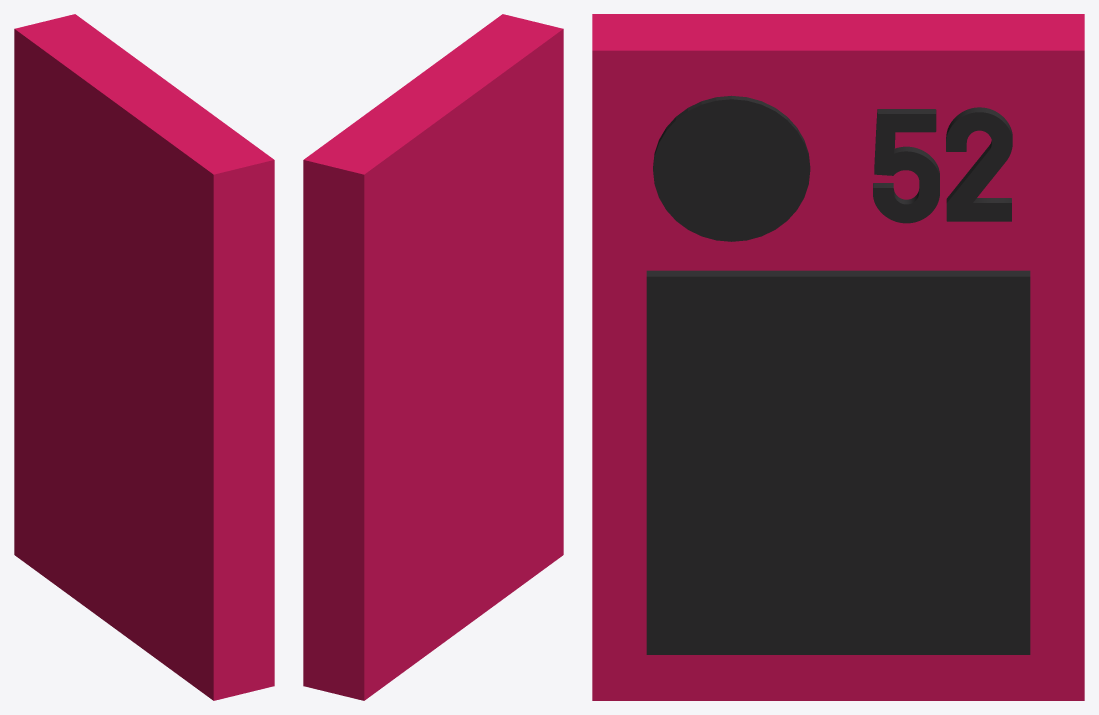
File: card.glb
3 views of the same model, side by side, from view 1: azimuth 30°, elevation 25°; view 2: azimuth 150°, elevation 25°; view 3: azimuth 270°, elevation 25° (orthographic). The views are drawn at different scales.
Visible parts, largest first — view 1: Cube; view 2: Cube; view 3: Cube, Cube.001, Cylinder, Text.
Boxes of the visible parts, x1,y1,x2,y2 form: Cube: (14,14,274,700); Cube: (303,14,563,700); Cube: (592,14,1084,700); Cube.001: (646,270,1030,654); Cylinder: (653,95,810,241); Text: (873,107,1012,223).
Bounding box in the file's own units: 0.5262 × 3.74 × 2.57.
